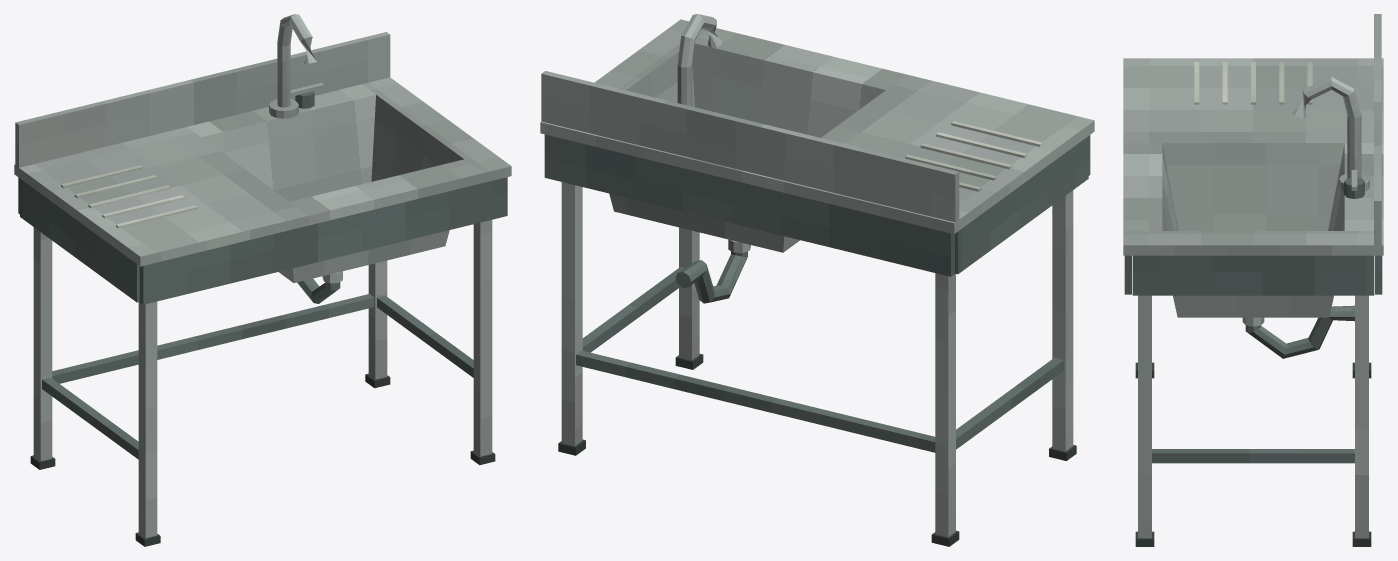
The model's file is steel-sink.glb.
The picture shows the model from 3 angles, left to right: view 1: azimuth 30°, elevation 25°; view 2: azimuth 150°, elevation 25°; view 3: azimuth 270°, elevation 25°; orthographic projection. The views are drawn at different scales.
Parts seen in each view (by area): view 1: steel-sink/deck-left, steel-sink/pressed-steel-bowl, steel-sink/splashback, steel-sink/apron-long--1, steel-sink/deck-frontback--1, steel-sink/apron-end--1, steel-sink/leg-0-0, steel-sink/leg-1-0, steel-sink/rear-low-tie, steel-sink/leg-0-1, steel-sink/deck-right, steel-sink/leg-1-1 (+5 smaller); view 2: steel-sink/splashback, steel-sink/deck-left, steel-sink/apron-long-1, steel-sink/pressed-steel-bowl, steel-sink/rear-low-tie, steel-sink/apron-end--1, steel-sink/leg-1-1, steel-sink/leg-0-1, steel-sink/leg-0-0, steel-sink/deck-frontback--1, steel-sink/deck-right, steel-sink/deck-frontback-1 (+5 smaller); view 3: steel-sink/pressed-steel-bowl, steel-sink/deck-left, steel-sink/apron-end-1, steel-sink/deck-right, steel-sink/deck-frontback--1, steel-sink/leg-1-0, steel-sink/leg-1-1, steel-sink/end-stretcher-1, steel-sink/gooseneck-tap, steel-sink/deck-frontback-1, steel-sink/drain-trap, steel-sink/splashback (+1 smaller).
Boxes of the visible parts, x1,y1,x2,y2 form: steel-sink/deck-left: (14, 127, 308, 266); steel-sink/pressed-steel-bowl: (202, 95, 463, 282); steel-sink/splashback: (15, 32, 390, 167); steel-sink/apron-long--1: (139, 177, 507, 304); steel-sink/deck-frontback--1: (290, 159, 483, 225); steel-sink/apron-end--1: (20, 179, 139, 302); steel-sink/leg-0-0: (138, 301, 157, 538); steel-sink/leg-1-0: (473, 220, 492, 456); steel-sink/rear-low-tie: (52, 294, 374, 383); steel-sink/leg-0-1: (33, 227, 52, 461); steel-sink/deck-right: (362, 77, 511, 182); steel-sink/leg-1-1: (368, 260, 387, 379); steel-sink/splashback: (541, 71, 959, 222); steel-sink/deck-left: (766, 74, 1094, 233); steel-sink/apron-long-1: (544, 134, 954, 276); steel-sink/pressed-steel-bowl: (609, 43, 885, 252); steel-sink/rear-low-tie: (576, 350, 935, 452); steel-sink/apron-end--1: (955, 136, 1088, 274); steel-sink/leg-1-1: (561, 182, 582, 446); steel-sink/leg-0-1: (935, 273, 955, 537); steel-sink/leg-0-0: (1052, 190, 1073, 451); steel-sink/deck-frontback--1: (695, 28, 906, 89); steel-sink/deck-right: (540, 19, 706, 140); steel-sink/deck-frontback-1: (572, 129, 767, 188); steel-sink/pressed-steel-bowl: (1162, 143, 1344, 317); steel-sink/deck-left: (1123, 58, 1383, 142); steel-sink/apron-end-1: (1132, 255, 1374, 295); steel-sink/deck-right: (1123, 231, 1383, 255); steel-sink/deck-frontback--1: (1123, 143, 1162, 230); steel-sink/leg-1-0: (1138, 295, 1151, 538); steel-sink/leg-1-1: (1355, 295, 1368, 538); steel-sink/end-stretcher-1: (1152, 449, 1354, 463); steel-sink/gooseneck-tap: (1293, 76, 1361, 178); steel-sink/deck-frontback-1: (1344, 143, 1383, 230); steel-sink/drain-trap: (1245, 305, 1354, 358); steel-sink/splashback: (1374, 14, 1381, 245).
Bounding box in the file's own units: 1.06 × 1.1 × 0.625.
4 materials, 4 textured.
